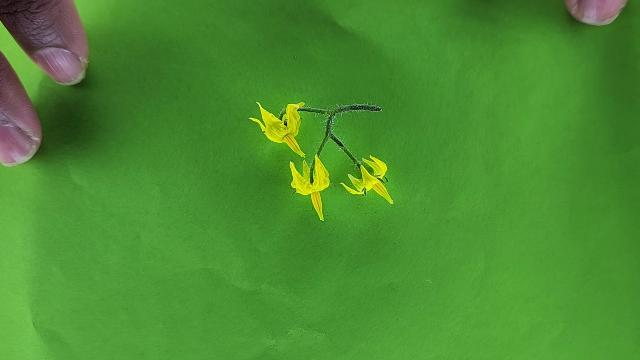Anthesis: (249, 98, 308, 160), (289, 152, 330, 222), (340, 154, 394, 204)
